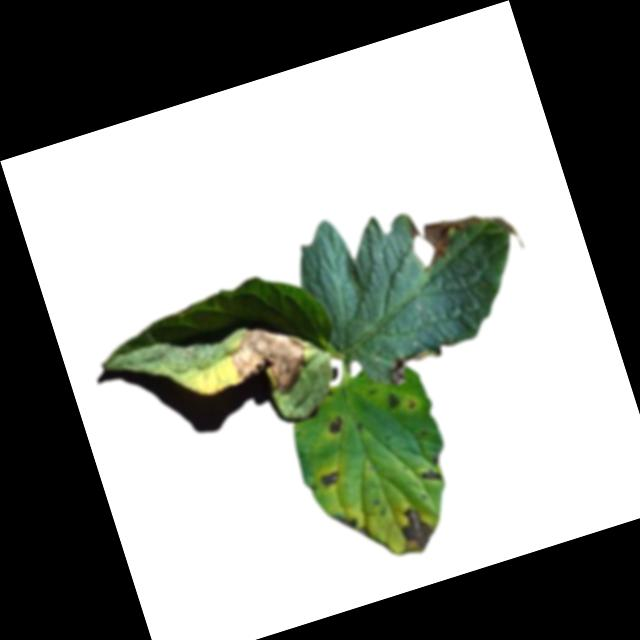Early_blight: (402, 184, 527, 281), (221, 312, 318, 409), (386, 502, 441, 563), (381, 342, 434, 385), (418, 466, 445, 488), (333, 511, 358, 533), (317, 470, 342, 491), (326, 413, 346, 436), (385, 392, 402, 414)
